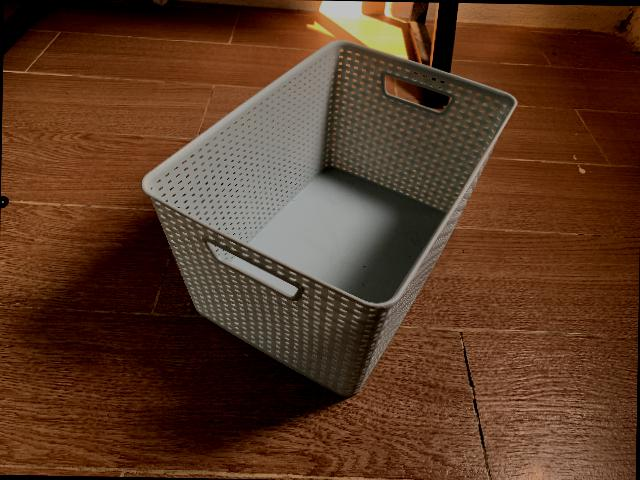cart: (140, 41, 518, 399)
